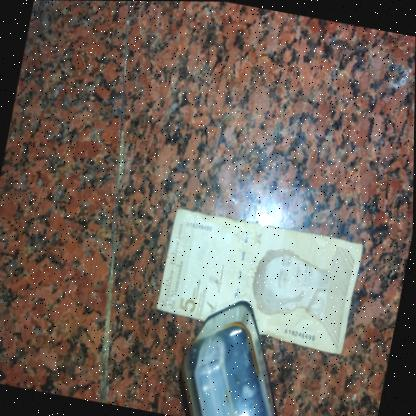five-front-vef: (153, 207, 365, 355)
